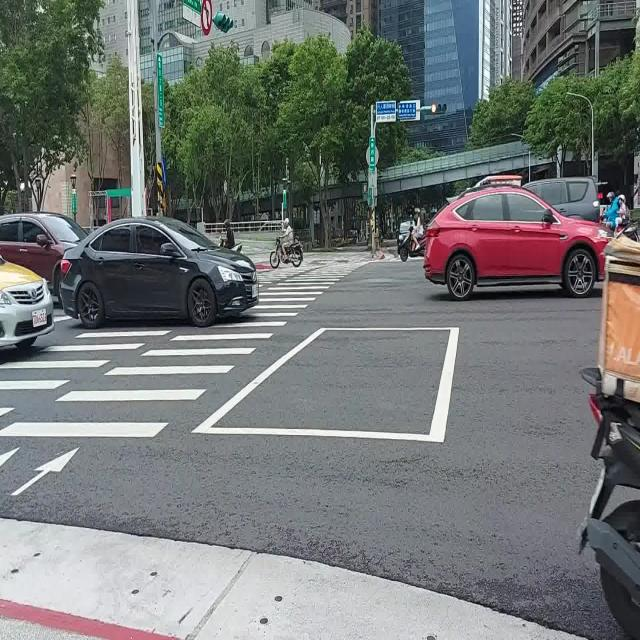car: (60, 218, 259, 329), (424, 187, 606, 300), (0, 211, 86, 298), (0, 258, 54, 349), (525, 178, 600, 222)
crosswalk: (0, 261, 352, 448)
motocycle: (580, 369, 640, 638), (270, 238, 302, 269), (399, 231, 426, 262)
